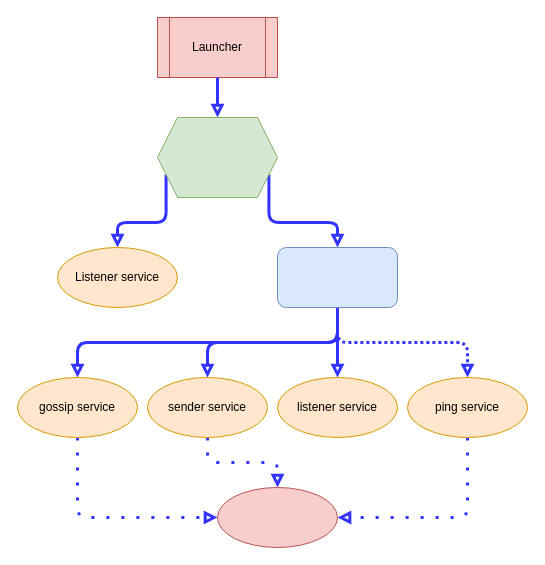
Some shapes in this 545 by 565 pixel diagram are drawn without their labels. The shapes that lost their labels are listed below. From the top down, each one's centre as x and y in pixels, then its label:
At (217,157): "Virtual layer".
At (337,277): "Physical layer".
At (277,517): "sender".
